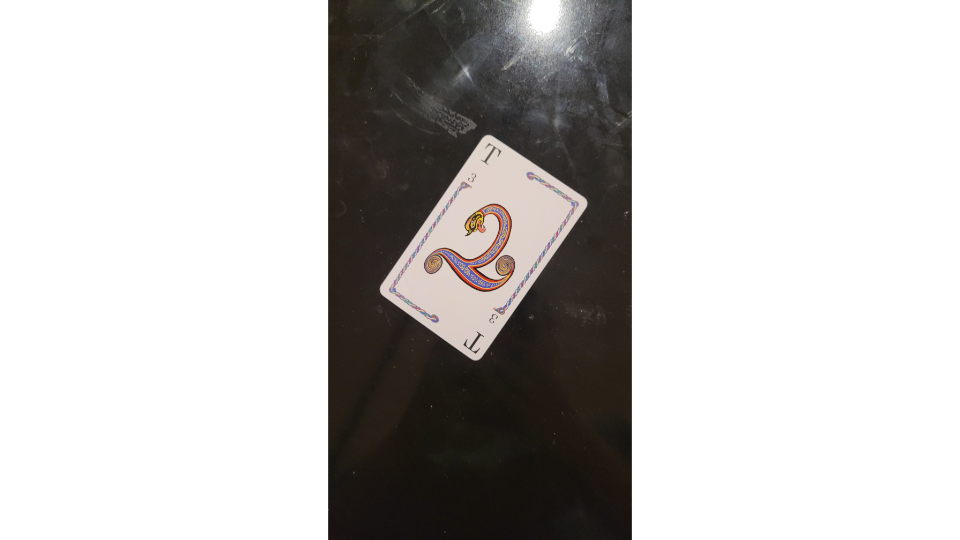T: (377, 131, 590, 364)
